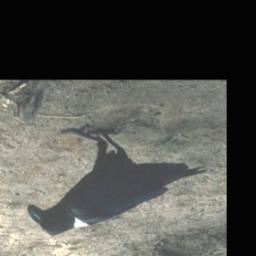Crow: (27, 125, 210, 238)
